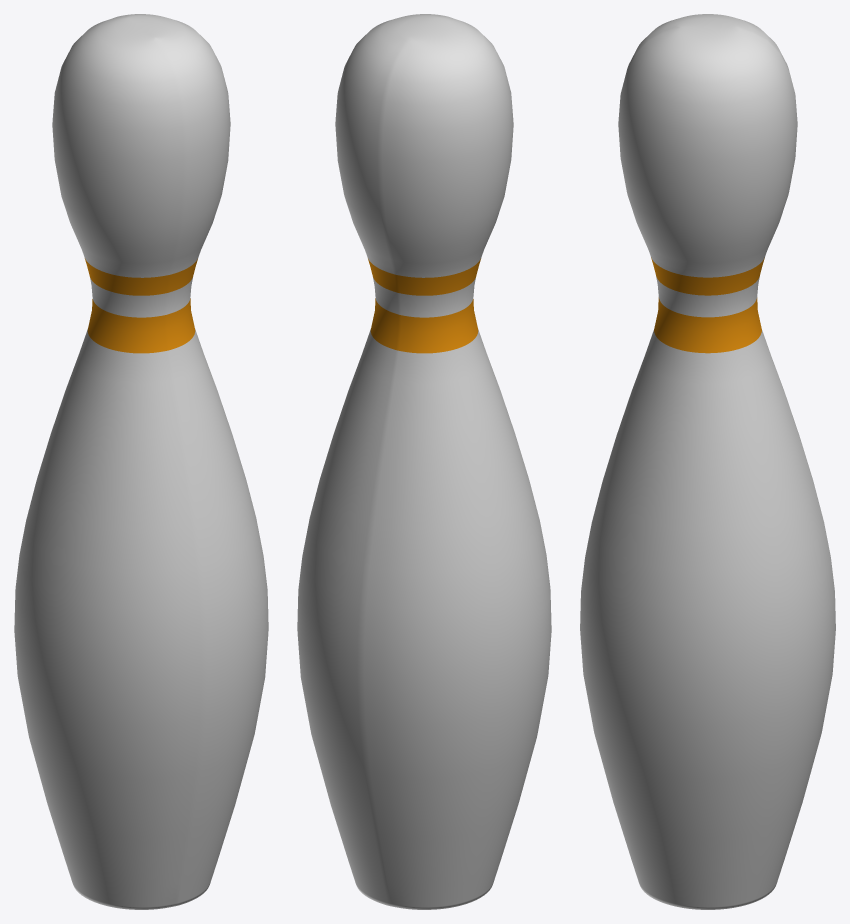
The model's file is Bowling Pin.fbx.
3 views of the same model, side by side, from view 1: azimuth 30°, elevation 25°; view 2: azimuth 150°, elevation 25°; view 3: azimuth 270°, elevation 25° (orthographic).
Visible parts, largest first — view 1: Circle; view 2: Circle; view 3: Circle.
Boxes of the visible parts, x1,y1,x2,y2 form: Circle: (14, 14, 268, 909); Circle: (297, 14, 551, 909); Circle: (580, 14, 835, 909).
Bounding box in the file's own units: 93.6 × 346 × 94.13.
